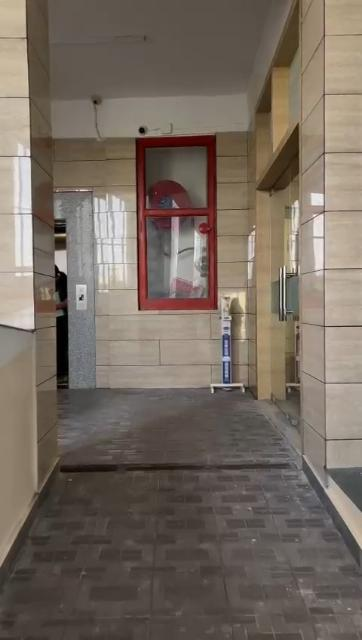door: (278, 190, 298, 404)
floor: (3, 386, 356, 640)
wall: (298, 5, 362, 465), (0, 0, 52, 496), (100, 146, 138, 384), (254, 113, 276, 395), (142, 310, 210, 386), (216, 135, 248, 285)
